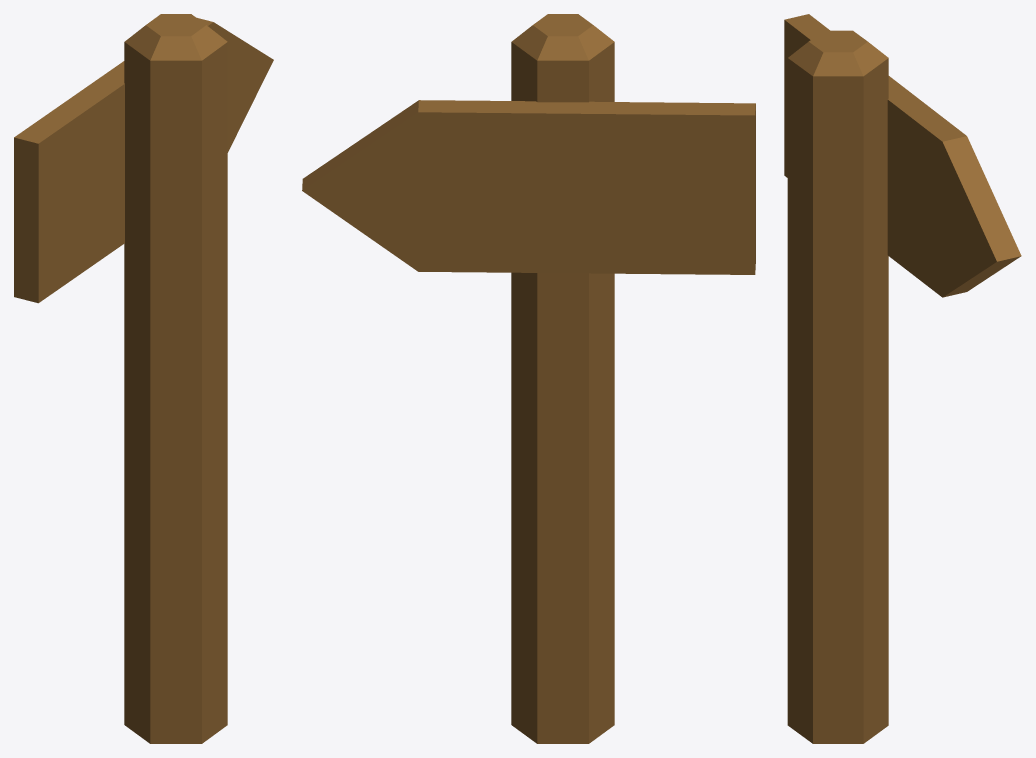
The model's file is env_props_cartel.fbx.
3 views of the same model, side by side, from view 1: azimuth 30°, elevation 25°; view 2: azimuth 150°, elevation 25°; view 3: azimuth 270°, elevation 25° (orthographic). The views are drawn at different scales.
Visible parts, largest first — view 1: env_cartel; view 2: env_cartel; view 3: env_cartel.
Part boxes in pixels (x1,y1,x2,y2): env_cartel: (14, 14, 273, 743); env_cartel: (302, 14, 755, 743); env_cartel: (784, 14, 1021, 743).
Size of the model in its own units: 3.54 by 6.65 by 2.09.
